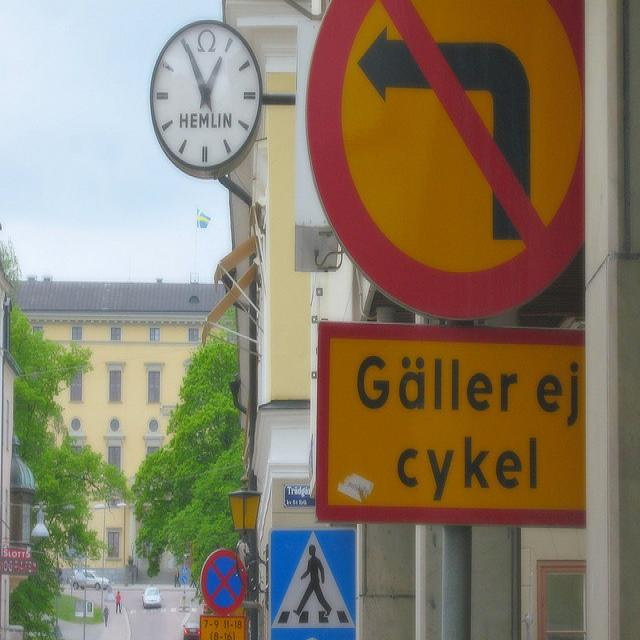Vehicle: (72, 570, 110, 591), (142, 588, 164, 608), (183, 622, 200, 639)
